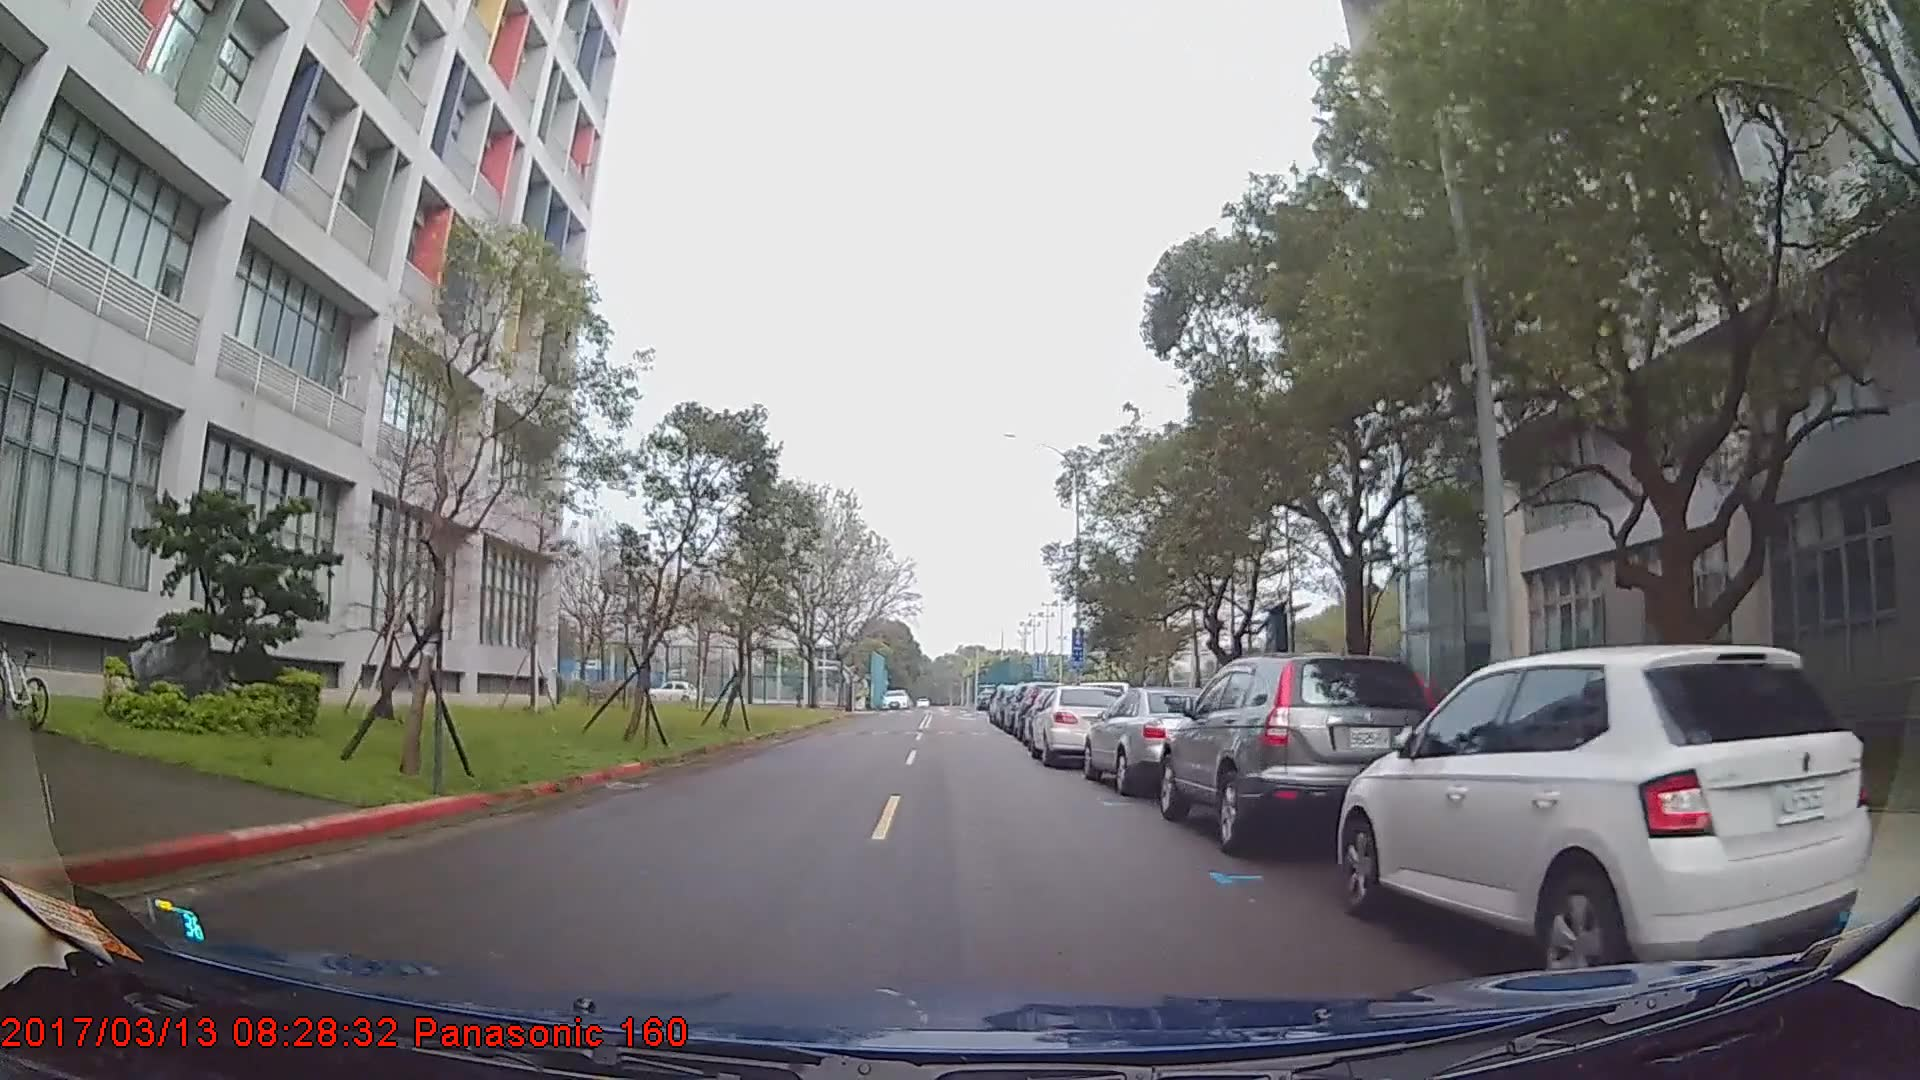vehicle: (1335, 641, 1875, 985), (1158, 651, 1448, 856), (1083, 684, 1215, 795), (1027, 680, 1135, 766), (646, 678, 699, 705)
